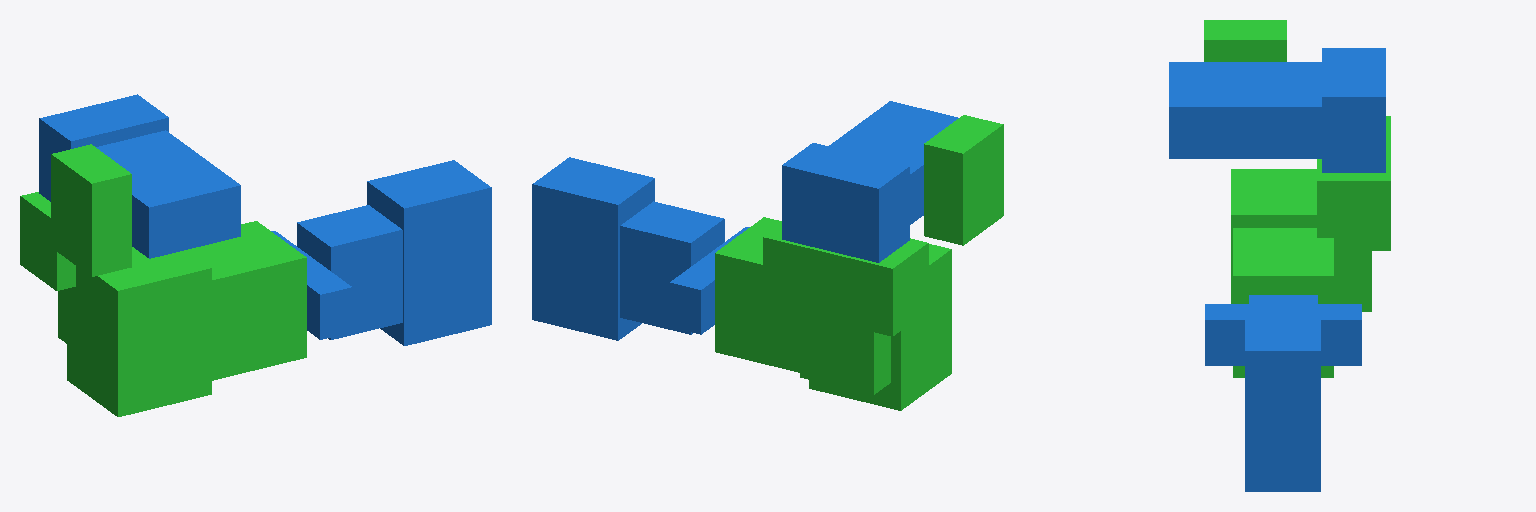
robot.urdf — robot:
<robot name = "robot">
    <link name="Link0">
        <inertial>
            <origin xyz="0 0 2" rpy="0 0 0"/>
            <mass value="0.20307946769570936" />
            <inertia ixx="100" ixy="0" ixz="0" iyy="100" iyz="0" izz="100" />
        </inertial>
        <visual>
            <origin xyz="0 0 2" rpy="0 0 0"/>
            <geometry>
                <box size="0.37425924362545104 0.6545826515221878 0.8289512482609072" />
            </geometry>
            <material name="Sensor">
                <color rgba="0.239 0.875 0.282 1.0"/>
            </material>
        </visual>
        <collision>
            <origin xyz="0 0 2" rpy="0 0 0"/>
            <geometry>
                <box size="0.37425924362545104 0.6545826515221878 0.8289512482609072" />
            </geometry>
        </collision>
    </link>
    <joint name="Link0_Link1" type="revolute">
       <parent link="Link0"/>
       <child  link="Link1"/>
       <origin rpy="0 0 0" xyz="0.18712962181272552 0 2" />
       <axis xyz="1 0 0"/>
       <limit effort="0.0" lower="-3.14159" upper="3.14159" velocity="0.0"/>
    </joint>
    <link name="Link1">
        <inertial>
            <origin xyz="0.4264221829095663 0 0" rpy="0 0 0"/>
            <mass value="0.4703519347160949" />
            <inertia ixx="100" ixy="0" ixz="0" iyy="100" iyz="0" izz="100" />
        </inertial>
        <visual>
            <origin xyz="0.4264221829095663 0 0" rpy="0 0 0"/>
            <geometry>
                <box size="0.8528443658191326 1.2107778367838566 0.4555003210755252" />
            </geometry>
            <material name="No Sensor">
                <color rgba="0.184 0.553 0.933 1.0"/>
            </material>
        </visual>
        <collision>
            <origin xyz="0.4264221829095663 0 0" rpy="0 0 0"/>
            <geometry>
                <box size="0.8528443658191326 1.2107778367838566 0.4555003210755252" />
            </geometry>
        </collision>
    </link>
    <joint name="Link1_Link2" type="revolute">
       <parent link="Link1"/>
       <child  link="Link2"/>
       <origin rpy="0 0 0" xyz="0.4264221829095663 0.6053889183919283 0.0" />
       <axis xyz="0 0 1"/>
       <limit effort="0.0" lower="-3.14159" upper="3.14159" velocity="0.0"/>
    </joint>
    <link name="Link2">
        <inertial>
            <origin xyz="0.0 0.2532145703307252 0.0" rpy="0 0 0"/>
            <mass value="0.30880381077897284" />
            <inertia ixx="100" ixy="0" ixz="0" iyy="100" iyz="0" izz="100" />
        </inertial>
        <visual>
            <origin xyz="0.0 0.2532145703307252 0.0" rpy="0 0 0"/>
            <geometry>
                <box size="0.9131513275630005 0.5064291406614504 0.667761242510447" />
            </geometry>
            <material name="No Sensor">
                <color rgba="0.184 0.553 0.933 1.0"/>
            </material>
        </visual>
        <collision>
            <origin xyz="0.0 0.2532145703307252 0.0" rpy="0 0 0"/>
            <geometry>
                <box size="0.9131513275630005 0.5064291406614504 0.667761242510447" />
            </geometry>
        </collision>
    </link>
    <joint name="Link2_Link3" type="revolute">
       <parent link="Link2"/>
       <child  link="Link3"/>
       <origin rpy="0 0 0" xyz="0.0 0.2532145703307252 -0.3338806212552235" />
       <axis xyz="1 0 0"/>
       <limit effort="0.0" lower="-3.14159" upper="3.14159" velocity="0.0"/>
    </joint>
    <link name="Link3">
        <inertial>
            <origin xyz="0.0 0.0 -0.30601158268777007" rpy="0 0 0"/>
            <mass value="0.43456572344202643" />
            <inertia ixx="100" ixy="0" ixz="0" iyy="100" iyz="0" izz="100" />
        </inertial>
        <visual>
            <origin xyz="0.0 0.0 -0.30601158268777007" rpy="0 0 0"/>
            <geometry>
                <box size="1.221950462109533 0.5810774305910541 0.6120231653755401" />
            </geometry>
            <material name="Sensor">
                <color rgba="0.239 0.875 0.282 1.0"/>
            </material>
        </visual>
        <collision>
            <origin xyz="0.0 0.0 -0.30601158268777007" rpy="0 0 0"/>
            <geometry>
                <box size="1.221950462109533 0.5810774305910541 0.6120231653755401" />
            </geometry>
        </collision>
    </link>
    <joint name="Link3_Link4" type="revolute">
       <parent link="Link3"/>
       <child  link="Link4"/>
       <origin rpy="0 0 0" xyz="0.0 0.0 -0.6120231653755401" />
       <axis xyz="0 1 0"/>
       <limit effort="0.0" lower="-3.14159" upper="3.14159" velocity="0.0"/>
    </joint>
    <link name="Link4">
        <inertial>
            <origin xyz="0.0 0.0 -0.3242851192522141" rpy="0 0 0"/>
            <mass value="0.1299963942531489" />
            <inertia ixx="100" ixy="0" ixz="0" iyy="100" iyz="0" izz="100" />
        </inertial>
        <visual>
            <origin xyz="0.0 0.0 -0.3242851192522141" rpy="0 0 0"/>
            <geometry>
                <box size="0.6895684484649433 0.29066778988915665 0.6485702385044282" />
            </geometry>
            <material name="Sensor">
                <color rgba="0.239 0.875 0.282 1.0"/>
            </material>
        </visual>
        <collision>
            <origin xyz="0.0 0.0 -0.3242851192522141" rpy="0 0 0"/>
            <geometry>
                <box size="0.6895684484649433 0.29066778988915665 0.6485702385044282" />
            </geometry>
        </collision>
    </link>
    <joint name="Link4_Link5" type="revolute">
       <parent link="Link4"/>
       <child  link="Link5"/>
       <origin rpy="0 0 0" xyz="0.0 -0.14533389494457832 -0.3242851192522141" />
       <axis xyz="0 0 1"/>
       <limit effort="0.0" lower="-3.14159" upper="3.14159" velocity="0.0"/>
    </joint>
    <link name="Link5">
        <inertial>
            <origin xyz="0.0 -0.41403999342511666 0.0" rpy="0 0 0"/>
            <mass value="0.8083956321610509" />
            <inertia ixx="100" ixy="0" ixz="0" iyy="100" iyz="0" izz="100" />
        </inertial>
        <visual>
            <origin xyz="0.0 -0.41403999342511666 0.0" rpy="0 0 0"/>
            <geometry>
                <box size="0.8689850995707687 0.8280799868502333 1.1234127277887769" />
            </geometry>
            <material name="Sensor">
                <color rgba="0.239 0.875 0.282 1.0"/>
            </material>
        </visual>
        <collision>
            <origin xyz="0.0 -0.41403999342511666 0.0" rpy="0 0 0"/>
            <geometry>
                <box size="0.8689850995707687 0.8280799868502333 1.1234127277887769" />
            </geometry>
        </collision>
    </link>
    <joint name="Link5_Link6" type="revolute">
       <parent link="Link5"/>
       <child  link="Link6"/>
       <origin rpy="0 0 0" xyz="0.4344925497853844 -0.41403999342511666 0.0" />
       <axis xyz="1 0 0"/>
       <limit effort="0.0" lower="-3.14159" upper="3.14159" velocity="0.0"/>
    </joint>
    <link name="Link6">
        <inertial>
            <origin xyz="0.44559327890758843 0.0 0.0" rpy="0 0 0"/>
            <mass value="0.6405073805782511" />
            <inertia ixx="100" ixy="0" ixz="0" iyy="100" iyz="0" izz="100" />
        </inertial>
        <visual>
            <origin xyz="0.44559327890758843 0.0 0.0" rpy="0 0 0"/>
            <geometry>
                <box size="0.8911865578151769 0.806955944679331 0.8906471570721031" />
            </geometry>
            <material name="Sensor">
                <color rgba="0.239 0.875 0.282 1.0"/>
            </material>
        </visual>
        <collision>
            <origin xyz="0.44559327890758843 0.0 0.0" rpy="0 0 0"/>
            <geometry>
                <box size="0.8911865578151769 0.806955944679331 0.8906471570721031" />
            </geometry>
        </collision>
    </link>
    <joint name="Link6_Link7" type="revolute">
       <parent link="Link6"/>
       <child  link="Link7"/>
       <origin rpy="0 0 0" xyz="0.8911865578151769 0.0 0.0" />
       <axis xyz="1 0 0"/>
       <limit effort="0.0" lower="-3.14159" upper="3.14159" velocity="0.0"/>
    </joint>
    <link name="Link7">
        <inertial>
            <origin xyz="0.1488083917053195 0.0 0.0" rpy="0 0 0"/>
            <mass value="0.14897913347993014" />
            <inertia ixx="100" ixy="0" ixz="0" iyy="100" iyz="0" izz="100" />
        </inertial>
        <visual>
            <origin xyz="0.1488083917053195 0.0 0.0" rpy="0 0 0"/>
            <geometry>
                <box size="0.297616783410639 1.2461213485585052 0.40170541761946676" />
            </geometry>
            <material name="No Sensor">
                <color rgba="0.184 0.553 0.933 1.0"/>
            </material>
        </visual>
        <collision>
            <origin xyz="0.1488083917053195 0.0 0.0" rpy="0 0 0"/>
            <geometry>
                <box size="0.297616783410639 1.2461213485585052 0.40170541761946676" />
            </geometry>
        </collision>
    </link>
    <joint name="Link7_Link8" type="revolute">
       <parent link="Link7"/>
       <child  link="Link8"/>
       <origin rpy="0 0 0" xyz="0.297616783410639 0.0 0.0" />
       <axis xyz="0 0 1"/>
       <limit effort="0.0" lower="-3.14159" upper="3.14159" velocity="0.0"/>
    </joint>
    <link name="Link8">
        <inertial>
            <origin xyz="0.3342234433677131 0.0 0.0" rpy="0 0 0"/>
            <mass value="0.3014971044008327" />
            <inertia ixx="100" ixy="0" ixz="0" iyy="100" iyz="0" izz="100" />
        </inertial>
        <visual>
            <origin xyz="0.3342234433677131 0.0 0.0" rpy="0 0 0"/>
            <geometry>
                <box size="0.6684468867354262 0.5452514701436912 0.8272168940956345" />
            </geometry>
            <material name="No Sensor">
                <color rgba="0.184 0.553 0.933 1.0"/>
            </material>
        </visual>
        <collision>
            <origin xyz="0.3342234433677131 0.0 0.0" rpy="0 0 0"/>
            <geometry>
                <box size="0.6684468867354262 0.5452514701436912 0.8272168940956345" />
            </geometry>
        </collision>
    </link>
    <joint name="Link8_Link9" type="revolute">
       <parent link="Link8"/>
       <child  link="Link9"/>
       <origin rpy="0 0 0" xyz="0.6684468867354262 0.0 0.0" />
       <axis xyz="0 1 0"/>
       <limit effort="0.0" lower="-3.14159" upper="3.14159" velocity="0.0"/>
    </joint>
    <link name="Link9">
        <inertial>
            <origin xyz="0.4047805117238076 0.0 0.0" rpy="0 0 0"/>
            <mass value="0.5964560880738885" />
            <inertia ixx="100" ixy="0" ixz="0" iyy="100" iyz="0" izz="100" />
        </inertial>
        <visual>
            <origin xyz="0.4047805117238076 0.0 0.0" rpy="0 0 0"/>
            <geometry>
                <box size="0.8095610234476152 0.6021143242597727 1.22362946398106" />
            </geometry>
            <material name="No Sensor">
                <color rgba="0.184 0.553 0.933 1.0"/>
            </material>
        </visual>
        <collision>
            <origin xyz="0.4047805117238076 0.0 0.0" rpy="0 0 0"/>
            <geometry>
                <box size="0.8095610234476152 0.6021143242597727 1.22362946398106" />
            </geometry>
        </collision>
    </link>
</robot>

--- What the picture shows (computed from the rendered views, not written in the file) ---
Views: 3 orthographic renders of the robot side by side, from view 1: azimuth 30°, elevation 25°; view 2: azimuth 150°, elevation 25°; view 3: azimuth 270°, elevation 25°.
Robot: robot — 10 links, 9 joints (9 revolute); root link Link0; default pose: every joint at zero.
Visible links, largest first — view 1: Link5, Link9, Link6, Link1, Link0, Link8, Link2, Link3, Link7; view 2: Link9, Link2, Link3, Link0, Link8, Link6, Link5, Link4, Link1, Link7; view 3: Link1, Link9, Link2, Link6, Link3, Link5, Link7, Link0, Link4, Link8.
Boxes of the visible links, x1,y1,x2,y2 form: Link5: (67, 247, 211, 416); Link9: (367, 160, 491, 345); Link6: (187, 221, 306, 380); Link1: (96, 130, 240, 258); Link0: (51, 144, 131, 276); Link8: (297, 205, 402, 339); Link2: (39, 94, 168, 201); Link3: (20, 192, 75, 290); Link7: (271, 231, 351, 339); Link9: (532, 157, 654, 340); Link2: (782, 143, 909, 262); Link3: (763, 224, 928, 336); Link0: (924, 115, 1003, 245); Link8: (620, 201, 724, 334); Link6: (715, 217, 799, 372); Link5: (809, 244, 951, 410); Link4: (800, 314, 890, 394); Link1: (829, 101, 958, 224); Link7: (670, 227, 749, 334); Link1: (1169, 62, 1321, 158); Link9: (1245, 308, 1320, 491); Link2: (1322, 48, 1385, 172); Link6: (1233, 228, 1333, 377); Link3: (1317, 116, 1390, 250); Link5: (1231, 169, 1335, 303); Link7: (1205, 304, 1361, 365); Link0: (1204, 20, 1286, 61); Link4: (1336, 251, 1371, 311); Link8: (1249, 295, 1317, 307).
Bounding box of the posed robot: 3.9 × 1.75 × 2.3 m (x, y, z).
Geometry: primitives only (box / cylinder / sphere), no mesh files.